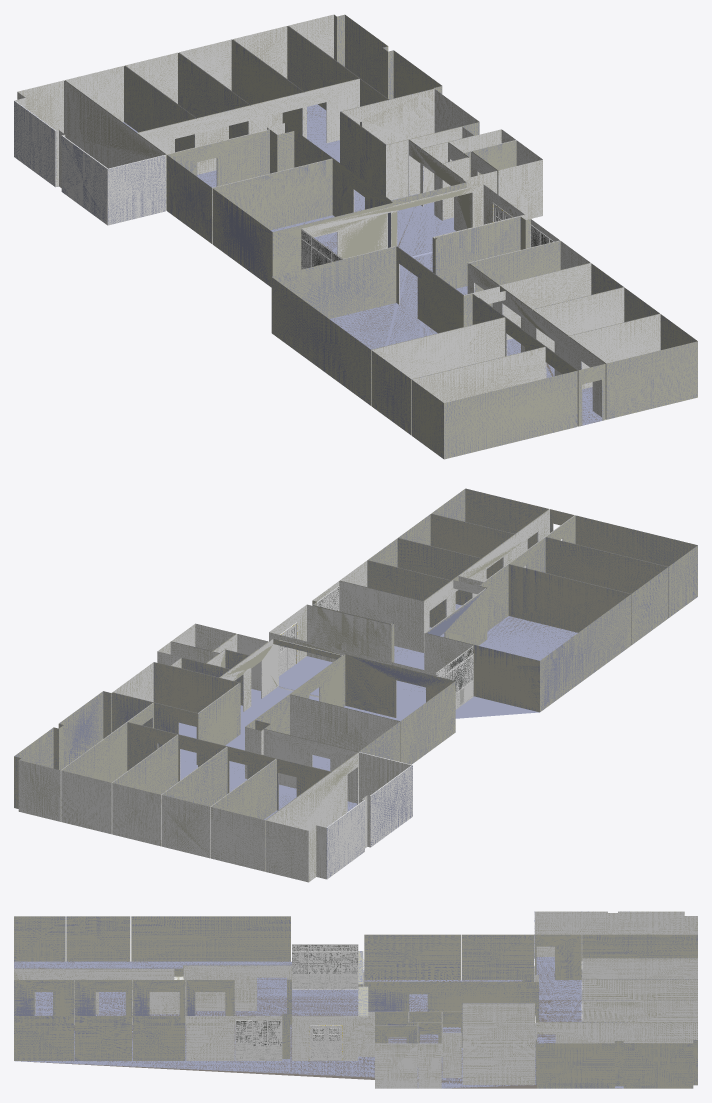
Rendered from dasygBeta2_prev.fbx.
The picture shows the model from 3 angles, top to bottom: view 1: azimuth 30°, elevation 25°; view 2: azimuth 150°, elevation 25°; view 3: azimuth 270°, elevation 25°; orthographic projection. The views are drawn at different scales.
Parts seen in each view (by area): view 1: Model; view 2: Model; view 3: Model.
Boxes of the visible parts, <box> form: Model: <box>14,14,697,459</box>; Model: <box>14,488,697,882</box>; Model: <box>14,911,697,1088</box>.
Size of the model in its own units: 18.75 by 3 by 41.1.
